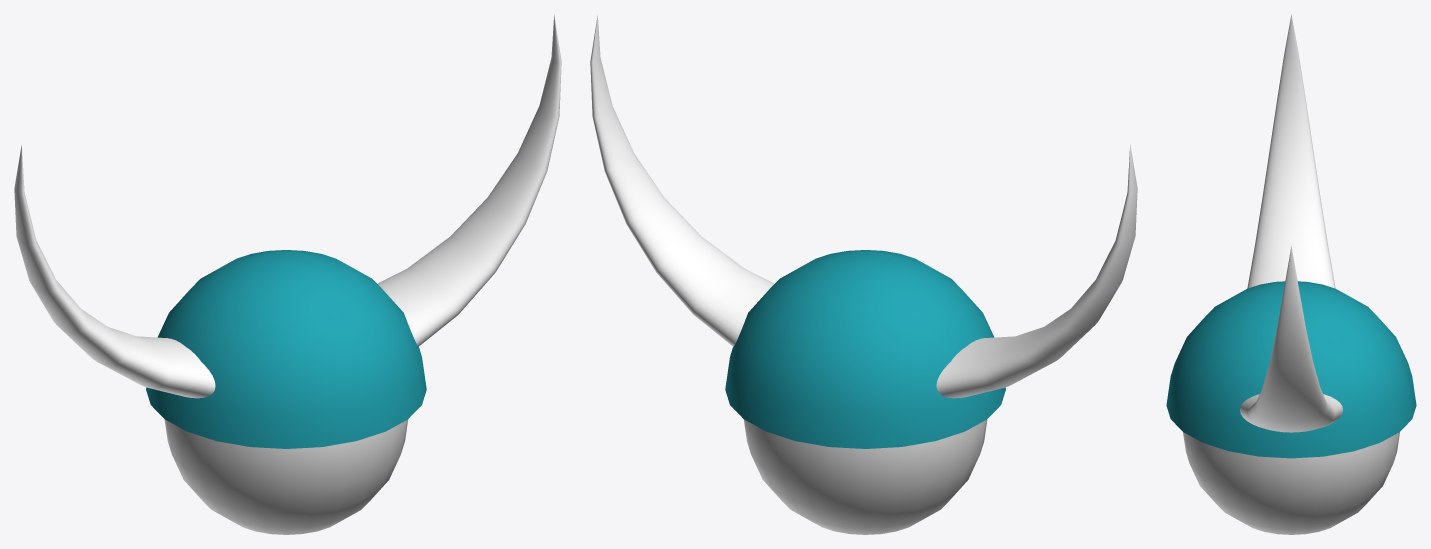
The model's file is cabeza_vikingo_test01.fbx.
3 renders of one model, left to right at view 1: azimuth 30°, elevation 25°; view 2: azimuth 150°, elevation 25°; view 3: azimuth 270°, elevation 25°, orthographic. The views are drawn at different scales.
Parts seen in each view (by area): view 1: Esfera_1, Esfera, Cono_1, Cono; view 2: Esfera_1, Esfera, Cono_1, Cono; view 3: Esfera_1, Esfera, Cono, Cono_1.
Part boxes in pixels (x1=…): Esfera_1: x1=146, y1=250, x2=426, y2=448; Esfera: x1=164, y1=419, x2=408, y2=534; Cono_1: x1=377, y1=15, x2=561, y2=346; Cono: x1=14, y1=145, x2=215, y2=398; Esfera_1: x1=725, y1=250, x2=1005, y2=448; Esfera: x1=743, y1=419, x2=987, y2=534; Cono_1: x1=590, y1=15, x2=774, y2=346; Cono: x1=936, y1=145, x2=1137, y2=398; Esfera_1: x1=1166, y1=281, x2=1416, y2=458; Esfera: x1=1183, y1=432, x2=1399, y2=534; Cono: x1=1247, y1=14, x2=1335, y2=288; Cono_1: x1=1240, y1=245, x2=1342, y2=432.
Bounding box in the file's own units: 267 × 209 × 120.
